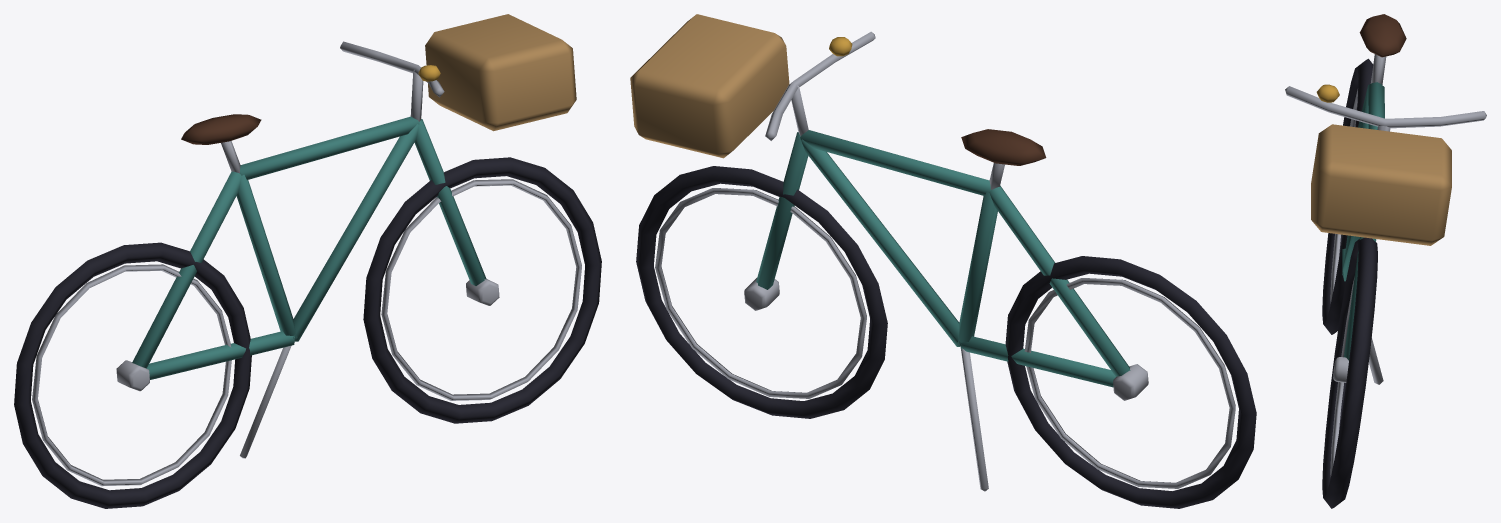
The model's file is bike.glb.
3 renders of one model, left to right at view 1: azimuth 30°, elevation 25°; view 2: azimuth 150°, elevation 25°; view 3: azimuth 270°, elevation 25°, orthographic. The views are drawn at different scales.
Visible parts, largest first — view 1: bike; view 2: bike; view 3: bike, bell.
Boxes of the visible parts, left/top/right/bottom form: bike: left=14, top=14, right=601, bottom=508; bike: left=630, top=14, right=1256, bottom=508; bike: left=1285, top=14, right=1486, bottom=508; bell: left=1316, top=84, right=1339, bottom=102.
Bounding box in the file's own units: 1.75 × 1.06 × 0.5105.
